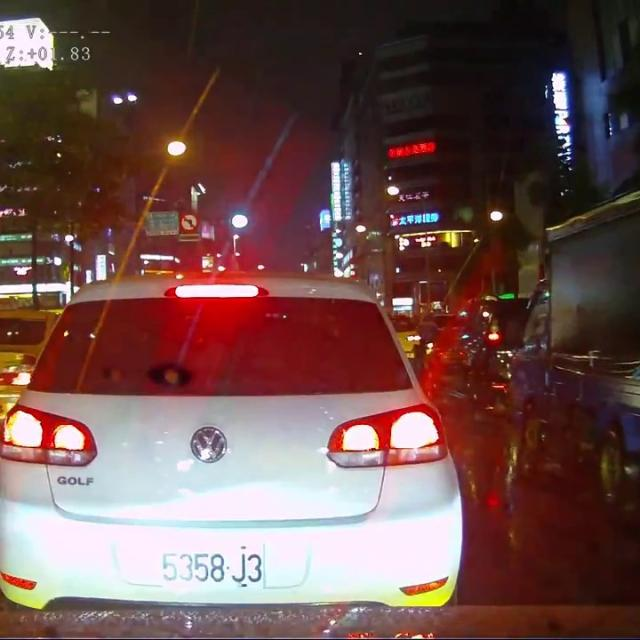Car: (0, 269, 465, 608), (453, 291, 534, 393), (0, 302, 58, 418), (392, 311, 430, 361)
